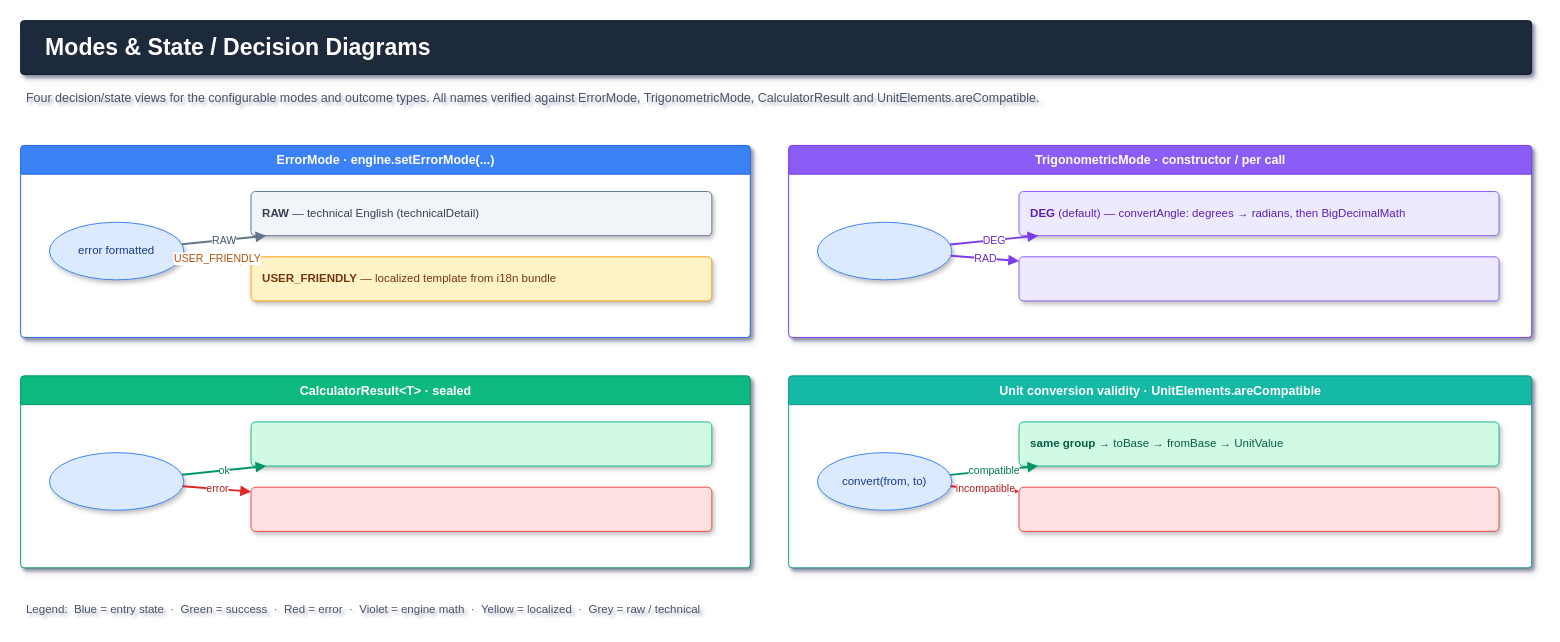
Some shapes in this 1560 by 642 pixel diagram are drawn without their labels. Here are the shapes that lost their labels. From the top down, the centre of each, then its label:
At (885,252): "trig fn input angle".
At (1259,280): "RAD — use the angle directly (radians)".
At (482,445): "Success<T>(value) — value() present · isSuccess()=true".
At (117,482): "evaluateSafe(...)".
At (482,510): "Failure<T>(error) — error() present · valueOrThrow() throws".
At (1259,510): "different group / unknown symbol → UnitConversionException".
